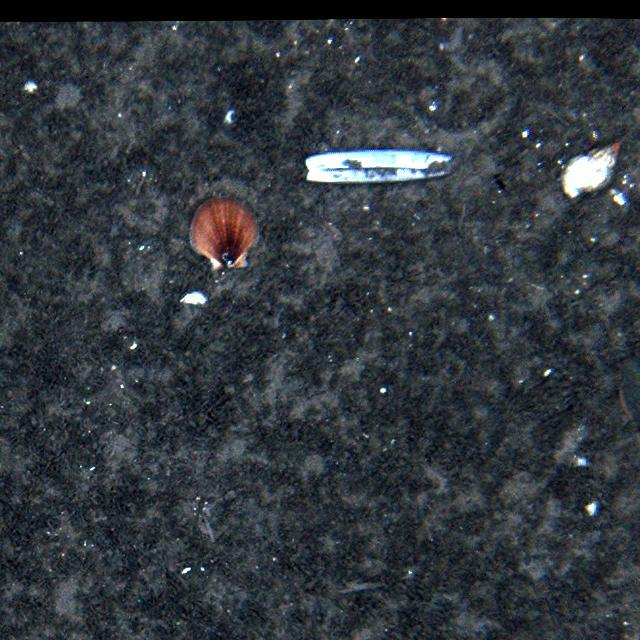whelk: (560, 138, 622, 202)
